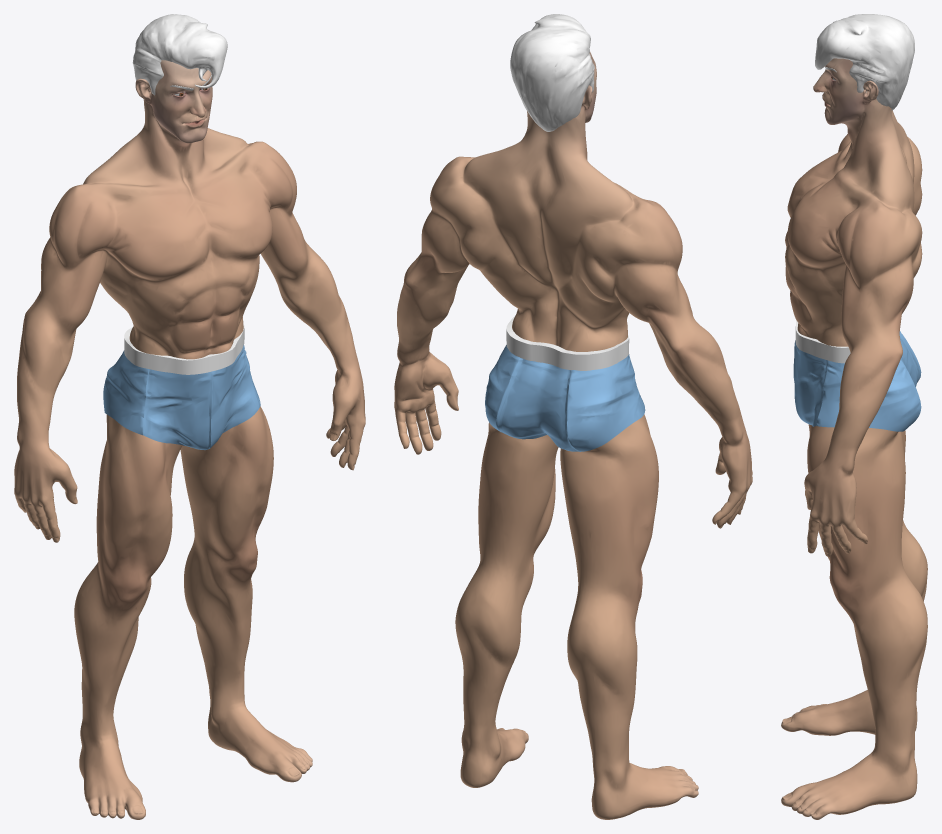
File: MascularMale.hq.glb
The picture shows the model from 3 angles, left to right: view 1: azimuth 30°, elevation 25°; view 2: azimuth 150°, elevation 25°; view 3: azimuth 270°, elevation 25°; orthographic projection.
Visible parts, largest first — view 1: Body, Trunks, Hair; view 2: Body, Trunks, Hair; view 3: Body, Trunks, Hair.
Boxes of the visible parts, bbox=[...] form: Body: bbox=[14, 60, 365, 819]; Trunks: bbox=[103, 324, 260, 449]; Hair: bbox=[132, 14, 227, 99]; Body: bbox=[394, 52, 752, 819]; Trunks: bbox=[485, 315, 645, 451]; Hair: bbox=[510, 14, 594, 131]; Body: bbox=[781, 58, 927, 819]; Trunks: bbox=[793, 320, 921, 431]; Hair: bbox=[815, 14, 914, 110].
Bounding box in the file's own units: 10.6 × 22.03 × 3.9.
